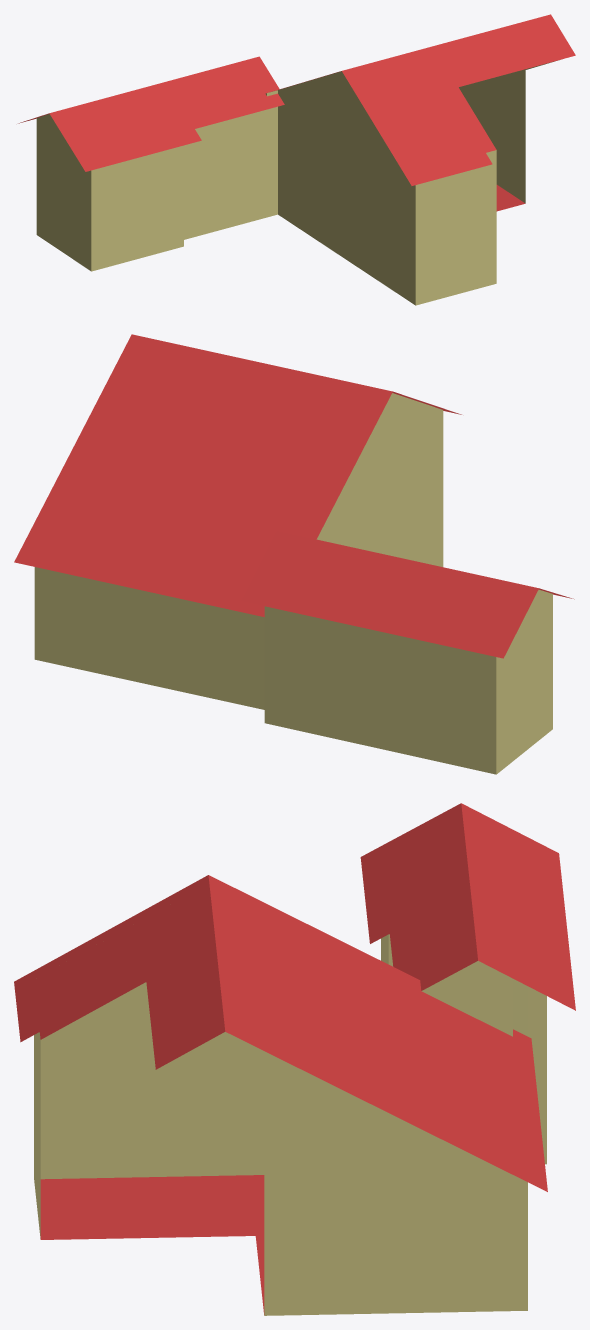
3 views of the same model, one above another, from view 1: azimuth 30°, elevation 25°; view 2: azimuth 150°, elevation 25°; view 3: azimuth 270°, elevation 25° (orthographic). The views are drawn at different scales.
Size of the model in its own units: 38.37 by 29.22 by 16.81.
